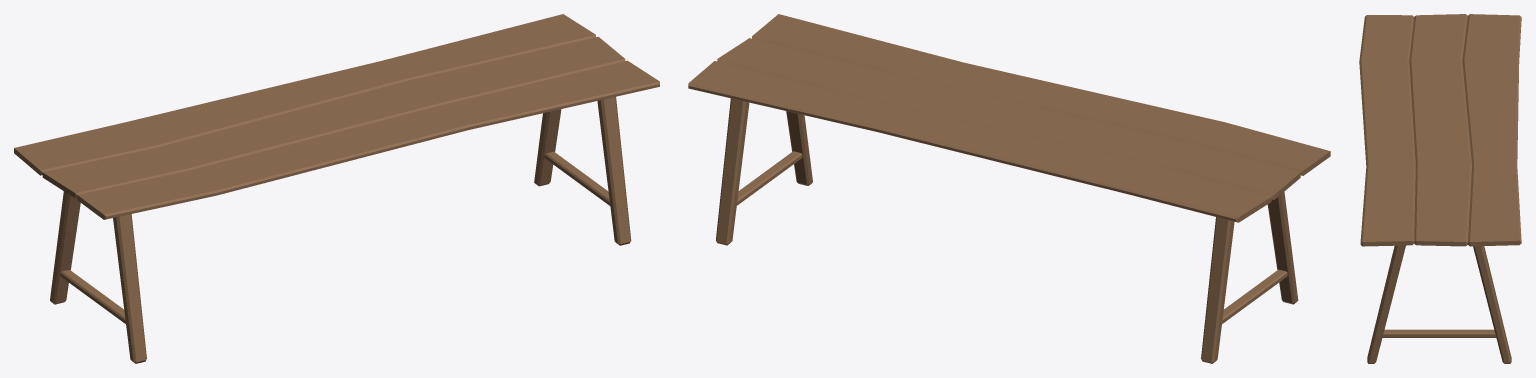
File: table_b001.glb
The picture shows the model from 3 angles, left to right: view 1: azimuth 30°, elevation 25°; view 2: azimuth 150°, elevation 25°; view 3: azimuth 270°, elevation 25°; orthographic projection. The views are drawn at different scales.
Parts seen in each view (by area): view 1: table_b001; view 2: table_b001; view 3: table_b001.
Boxes of the visible parts, x1,y1,x2,y2 form: table_b001: (14,14,659,363); table_b001: (688,14,1330,363); table_b001: (1359,14,1521,363).
Bounding box in the file's own units: 2.13 × 0.5777 × 0.6394.
Materials: 1 (1 with a texture image).
